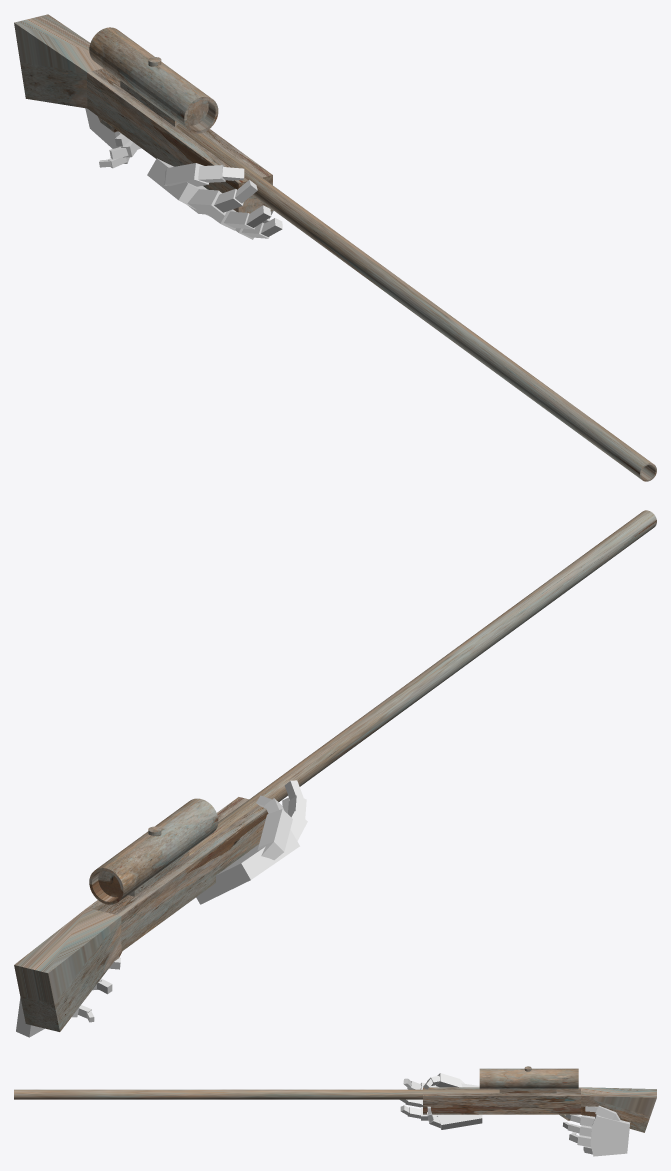
File: sniper.glb
3 renders of one model, top to bottom at view 1: azimuth 30°, elevation 25°; view 2: azimuth 150°, elevation 25°; view 3: azimuth 270°, elevation 25°, orthographic. The views are drawn at different scales.
Parts seen in each view (by area): view 1: Cube, Cube.191, Cube.186, Cube.187; view 2: Cube, Cube.191, Cube.186; view 3: Cube, Cube.001, Cube.191, Cube.186, Cube.006.
Boxes of the visible parts, x1,y1,x2,y2 form: Cube: (14,14,656,481); Cube.191: (147,158,210,216); Cube.186: (164,163,208,186); Cube.187: (187,189,226,215); Cube: (14,510,656,1031); Cube.191: (196,829,299,904); Cube.186: (257,809,292,860); Cube: (14,1066,656,1132); Cube.001: (590,1114,630,1156); Cube.191: (437,1083,482,1129); Cube.186: (436,1073,464,1087); Cube.006: (595,1105,620,1121).
Size of the model in its own units: 0.2881 by 0.3973 by 2.94.
Materials: 1 (1 with a texture image).
